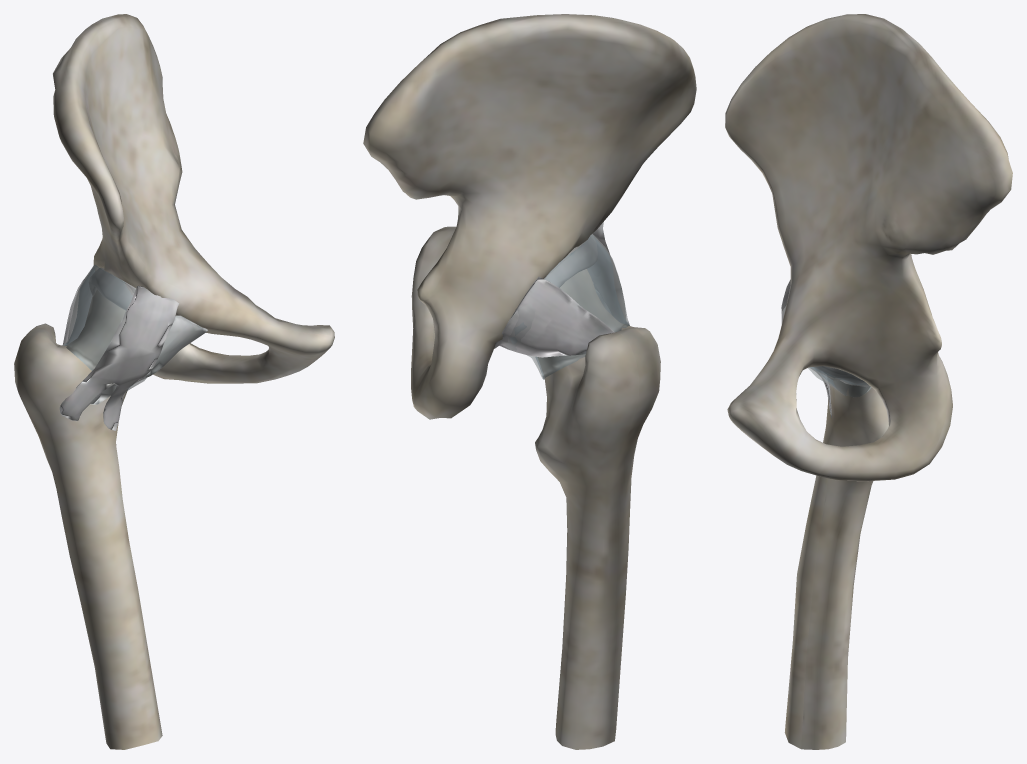
The model's file is hip-joint.glb.
3 renders of one model, left to right at view 1: azimuth 30°, elevation 25°; view 2: azimuth 150°, elevation 25°; view 3: azimuth 270°, elevation 25°, orthographic. The views are drawn at different scales.
Parts seen in each view (by area): view 1: Right_hip_bone__os_coxa_or_innominate_bone_, Right_femur, Right_iliofemoral_ligament, Right_hip_joint_capsule, Right_pubofemoral_ligament, Right_acetabular_labrum_and_transverse_acetabular_ligament; view 2: Right_hip_bone__os_coxa_or_innominate_bone_, Right_femur, Right_hip_joint_capsule, Right_ischiofemoral_ligament, Right_acetabular_labrum_and_transverse_acetabular_ligament, Right_iliofemoral_ligament; view 3: Right_hip_bone__os_coxa_or_innominate_bone_, Right_femur, Right_hip_joint_capsule.
Part boxes in pixels (x1,y1,x2,y2): Right_hip_bone__os_coxa_or_innominate_bone_: [53, 14, 334, 383]; Right_femur: [14, 289, 162, 749]; Right_iliofemoral_ligament: [59, 285, 179, 430]; Right_hip_joint_capsule: [63, 265, 146, 390]; Right_pubofemoral_ligament: [90, 315, 208, 404]; Right_acetabular_labrum_and_transverse_acetabular_ligament: [89, 267, 135, 310]; Right_hip_bone__os_coxa_or_innominate_bone_: [363, 14, 696, 419]; Right_femur: [535, 269, 660, 749]; Right_hip_joint_capsule: [506, 234, 629, 379]; Right_ischiofemoral_ligament: [494, 276, 614, 357]; Right_acetabular_labrum_and_transverse_acetabular_ligament: [545, 233, 597, 287]; Right_iliofemoral_ligament: [590, 222, 625, 319]; Right_hip_bone__os_coxa_or_innominate_bone_: [725, 14, 1012, 481]; Right_femur: [784, 380, 888, 749]; Right_hip_joint_capsule: [784, 306, 871, 397].
Size of the model in its own units: 0.1446 by 0.3607 by 0.1317.
Materials: 10 (10 with a texture image).
